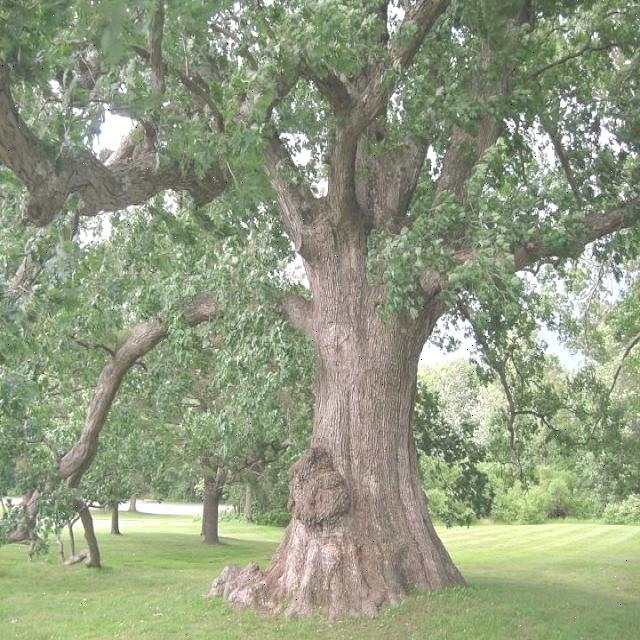Tree: (7, 5, 639, 608)
